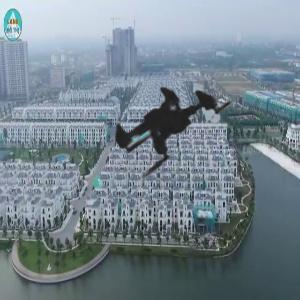drone: (55, 12, 265, 222)
